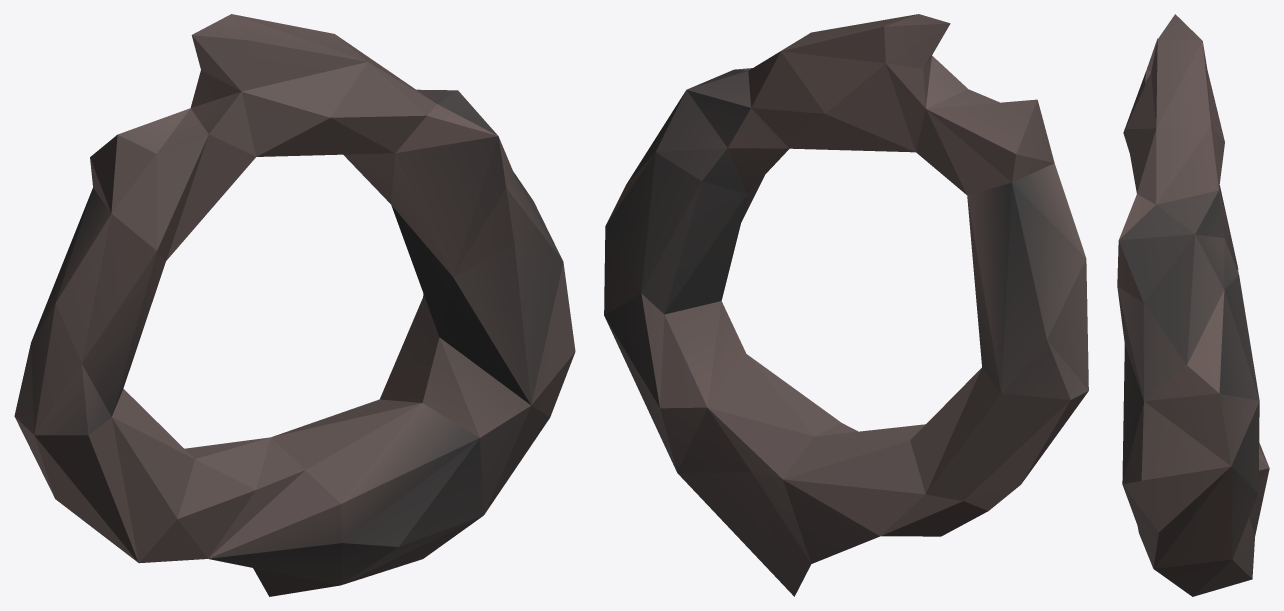
Rendered from anneau_astero02.FBX.
The picture shows the model from 3 angles, left to right: view 1: azimuth 30°, elevation 25°; view 2: azimuth 150°, elevation 25°; view 3: azimuth 270°, elevation 25°; orthographic projection. The views are drawn at different scales.
Visible parts, largest first — view 1: anneau_astero02; view 2: anneau_astero02; view 3: anneau_astero02.
Boxes of the visible parts, box(x1,y1,x2,y2) form: anneau_astero02: box(14, 14, 575, 596); anneau_astero02: box(604, 14, 1088, 596); anneau_astero02: box(1117, 14, 1269, 596).
Bounding box in the file's own units: 36.78 × 42.52 × 11.4.
